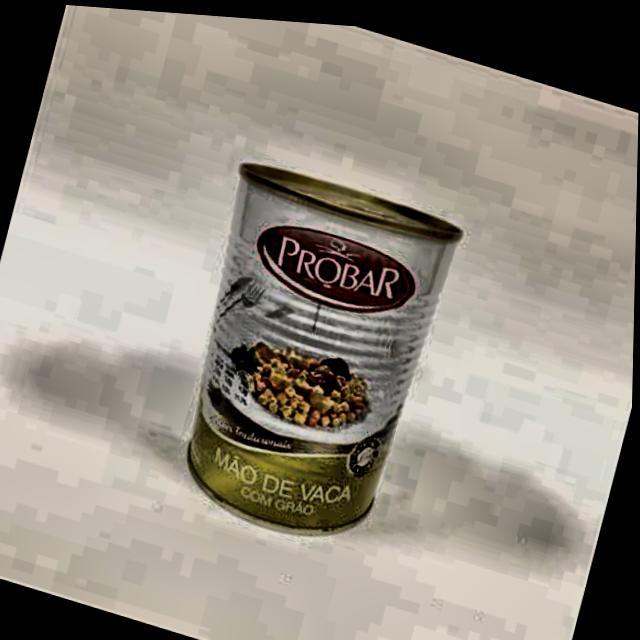Cans: (156, 130, 480, 569)
